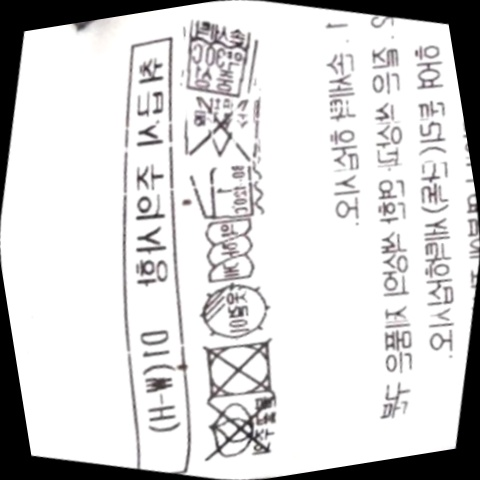DN_tumble_dry: (179, 312, 303, 425)
hand_wash: (159, 0, 279, 117)
iron_low: (175, 142, 278, 241)
line_dry_in_shade: (177, 260, 292, 362)
wring: (184, 202, 278, 301)
